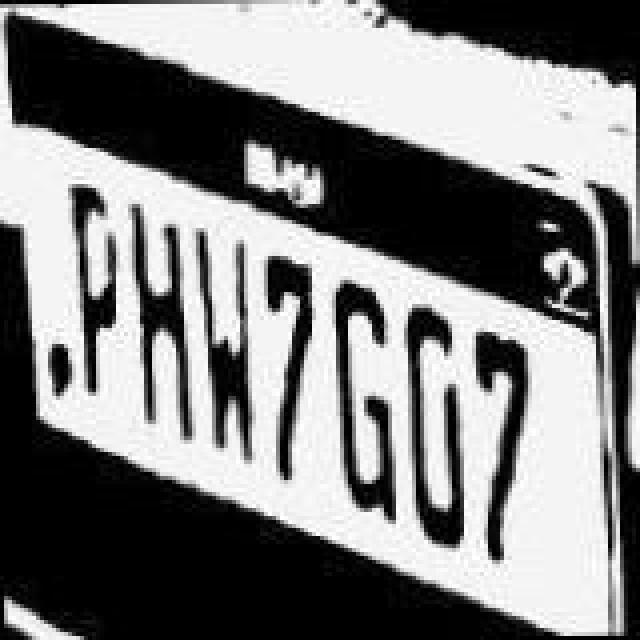7: (254, 246, 330, 498), (468, 332, 536, 572)
D: (398, 306, 470, 562)
G: (324, 250, 400, 534)
H: (130, 188, 198, 456)
P: (64, 170, 128, 414)
W: (194, 204, 262, 472)
